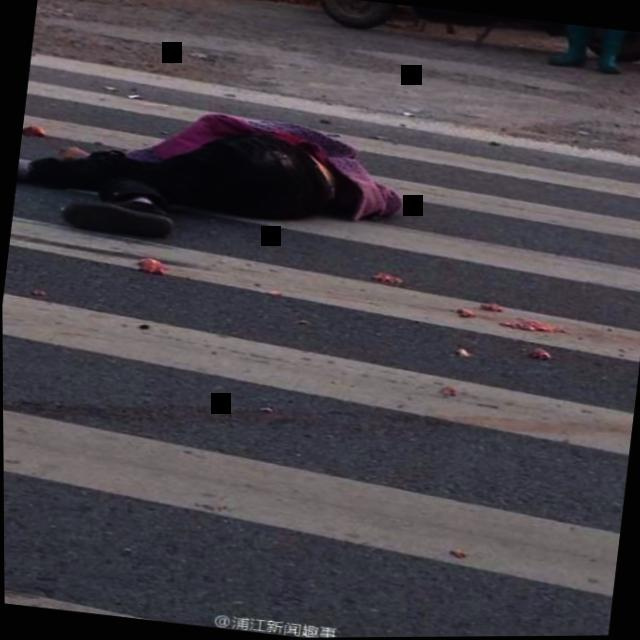Fall-Detected: (10, 68, 410, 266)
